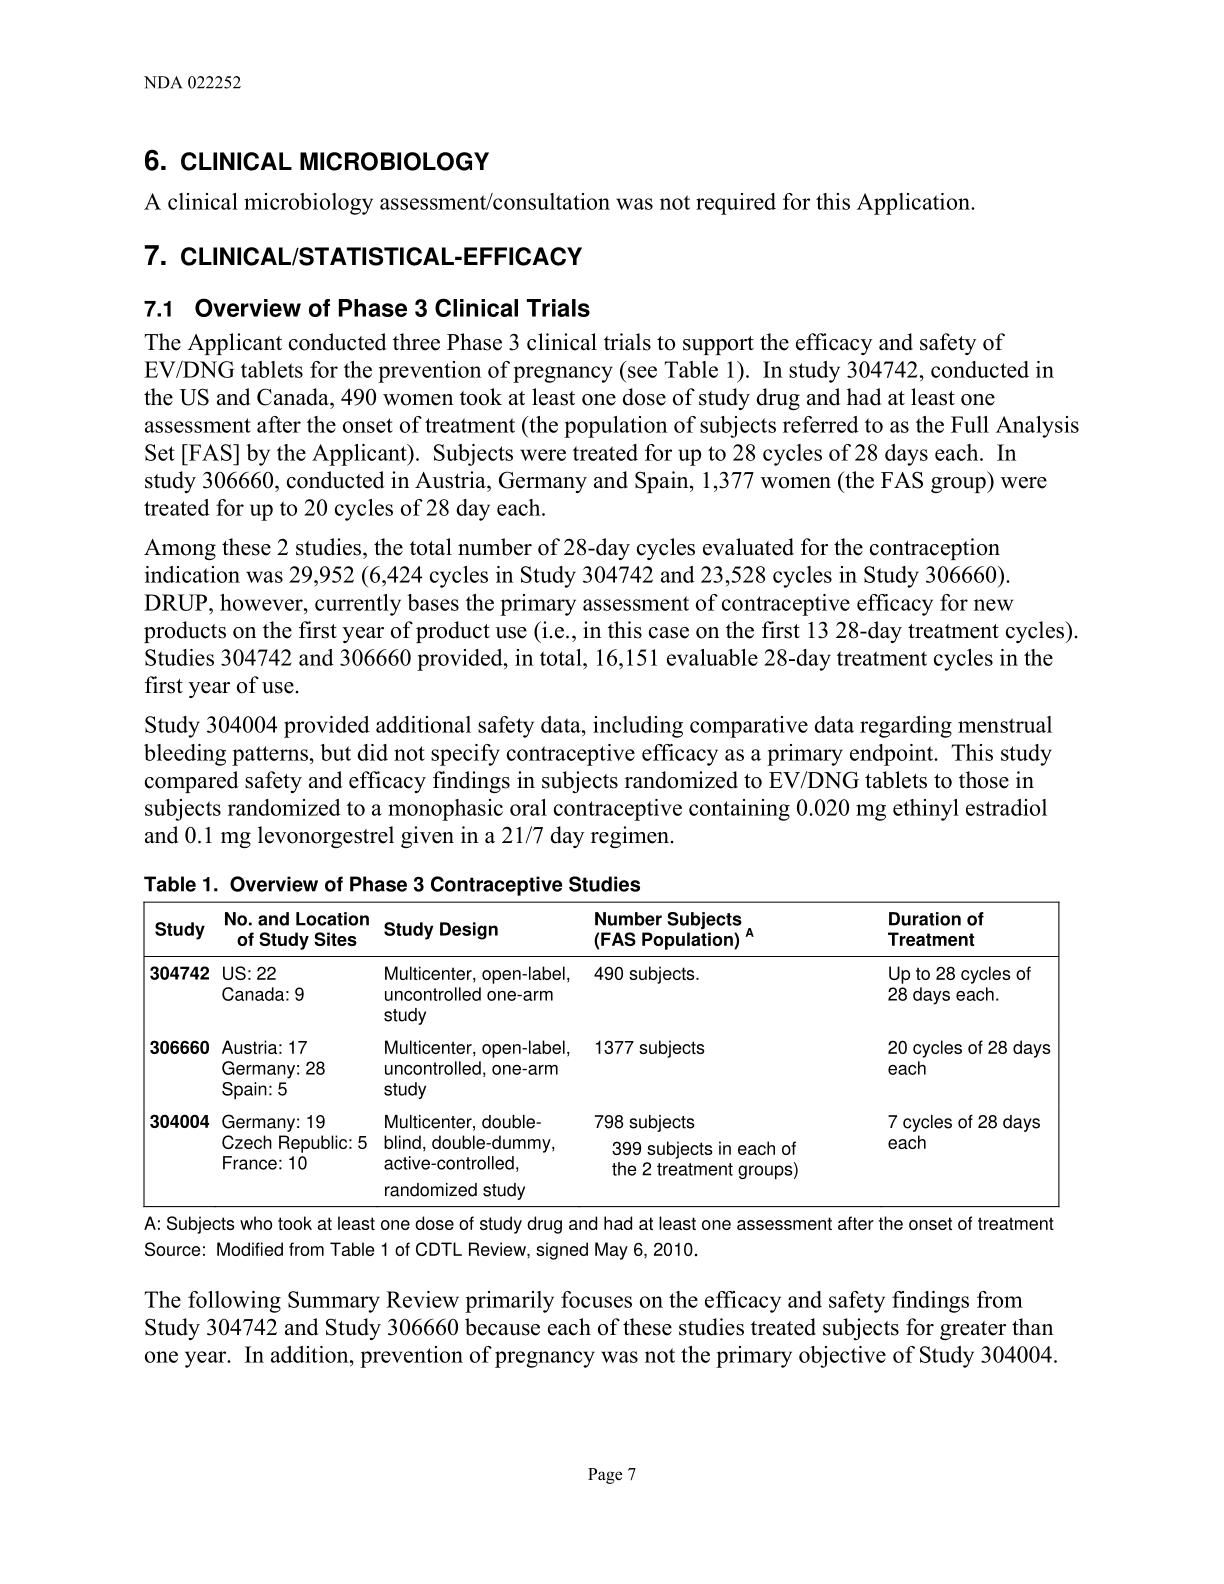partial_lined: (141, 900, 1059, 1209)
